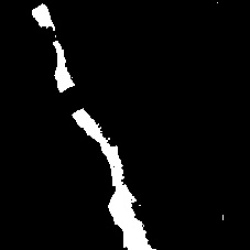crack: (71, 108, 153, 248), (51, 40, 76, 96), (31, 4, 55, 37)
pinhole: (219, 211, 224, 223)
